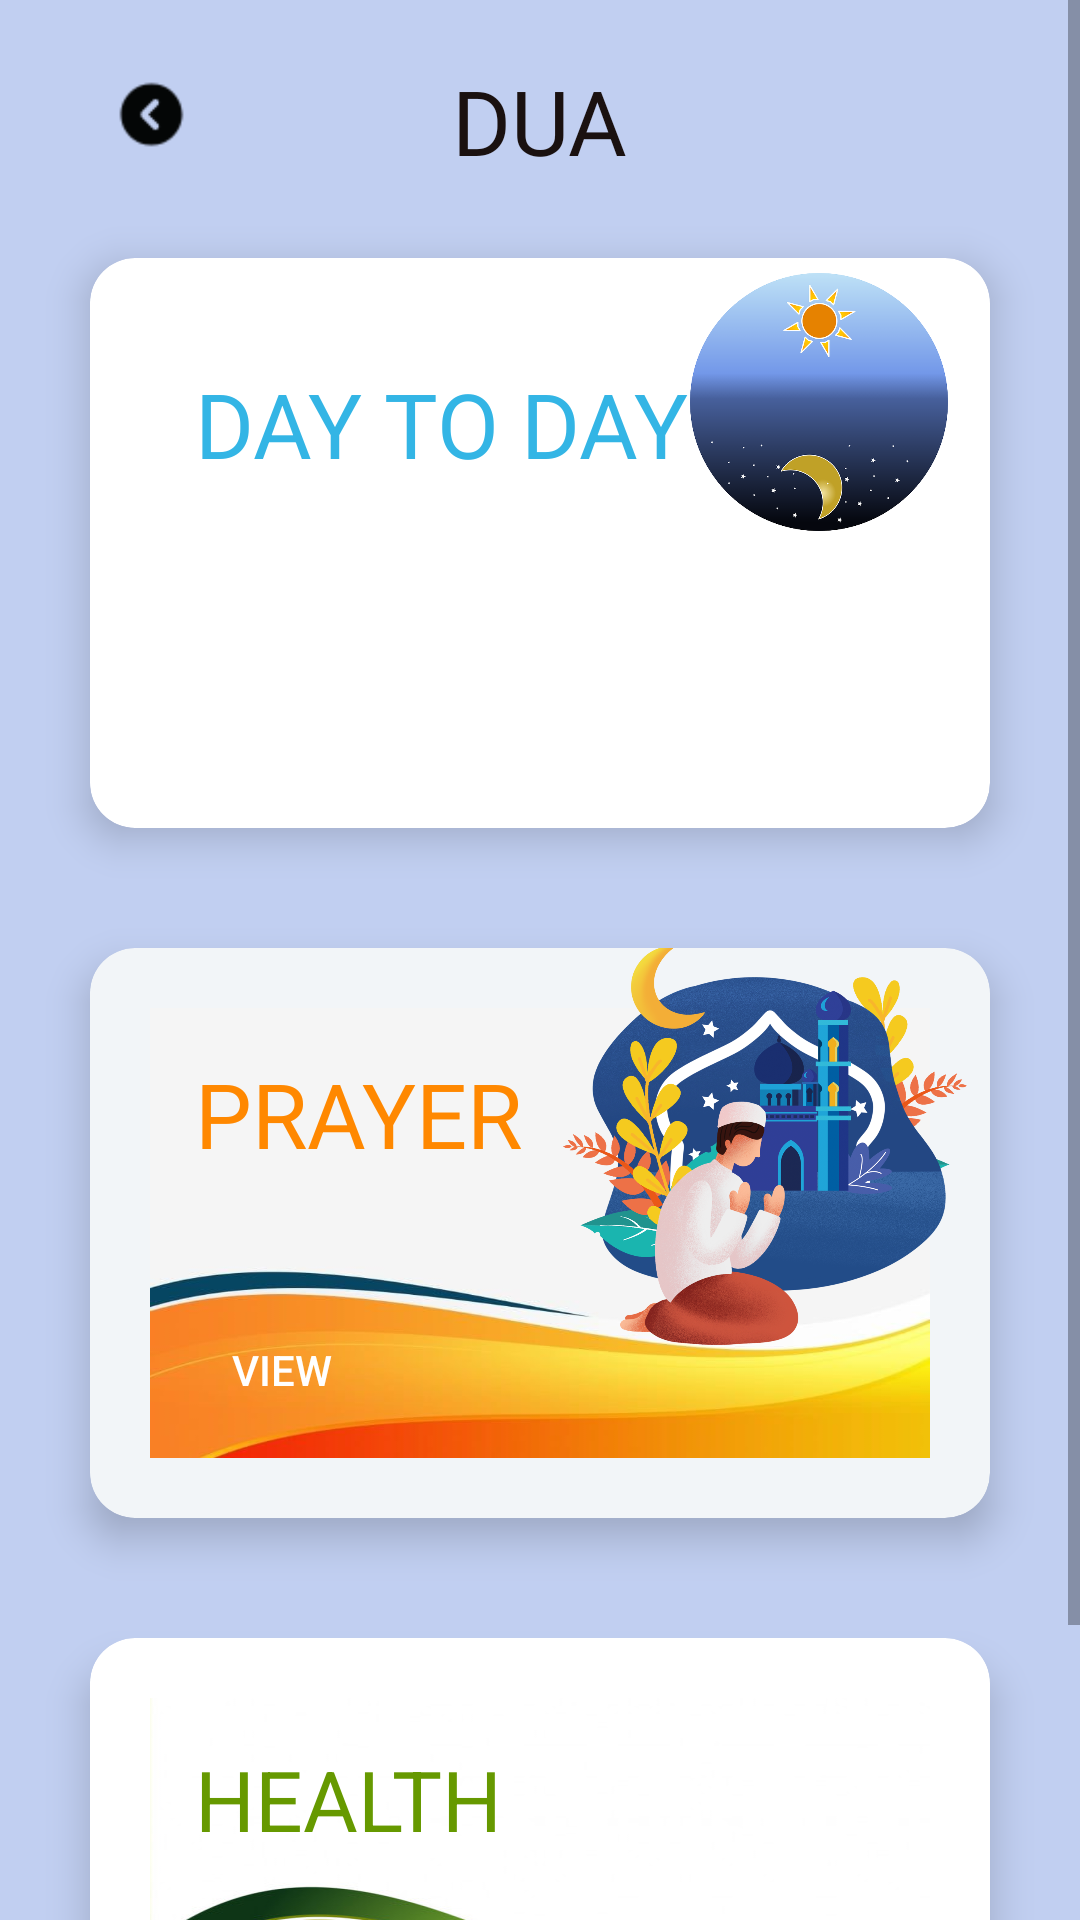

Icons on this 1080x1920 Android screen, each with the point to tap as point (x, y):
backicon: point (151, 114)
